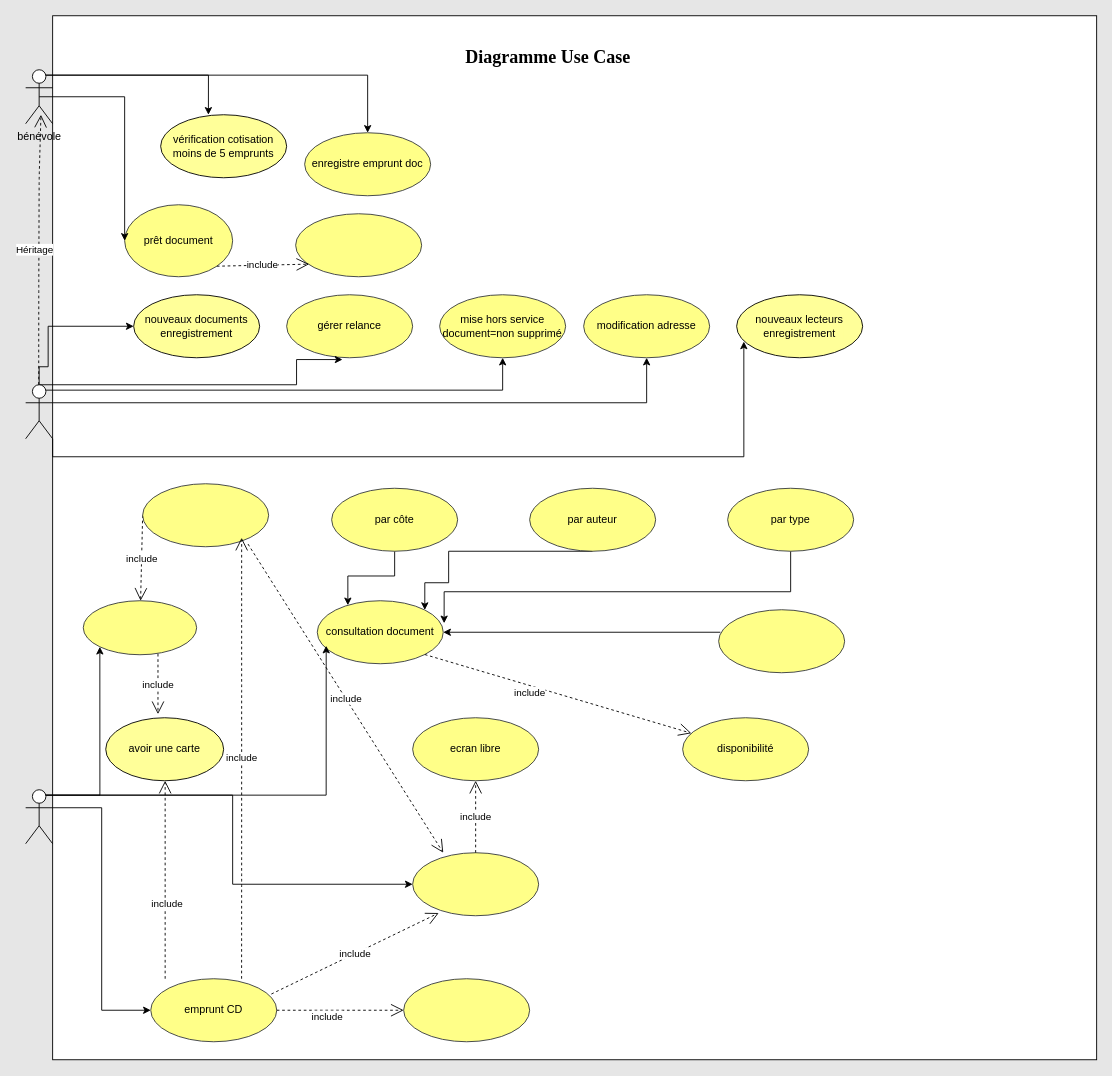
Some shapes in this 1112 by 1076 pixel diagram are drawn without their labels. The shapes that lost their labels are listed below. From the top down, each one's box as (x1, y1, x2, y2) in pixels, then its label:
(295, 213, 422, 277): vérifier compte-carte lecteur
(25, 384, 53, 439): personnel
(142, 483, 269, 547): fiche informatique emprunt
(82, 600, 197, 655): emprunt document
(718, 609, 845, 673): par référence
(25, 789, 53, 844): lecteur
(412, 852, 539, 916): consulter microfilm
(403, 978, 530, 1042): caution
